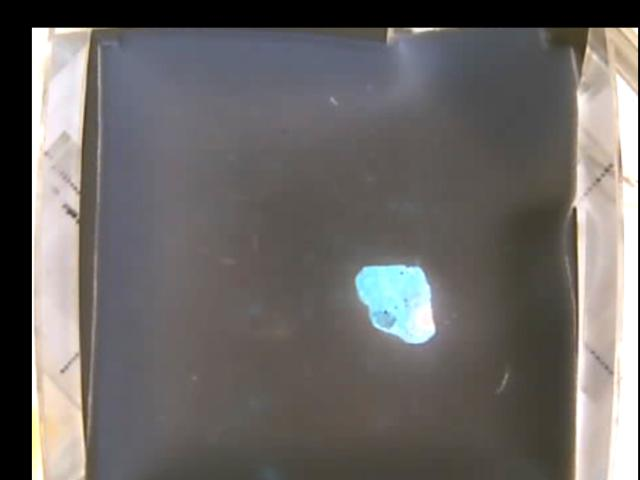Brisk: (352, 265, 437, 344)
